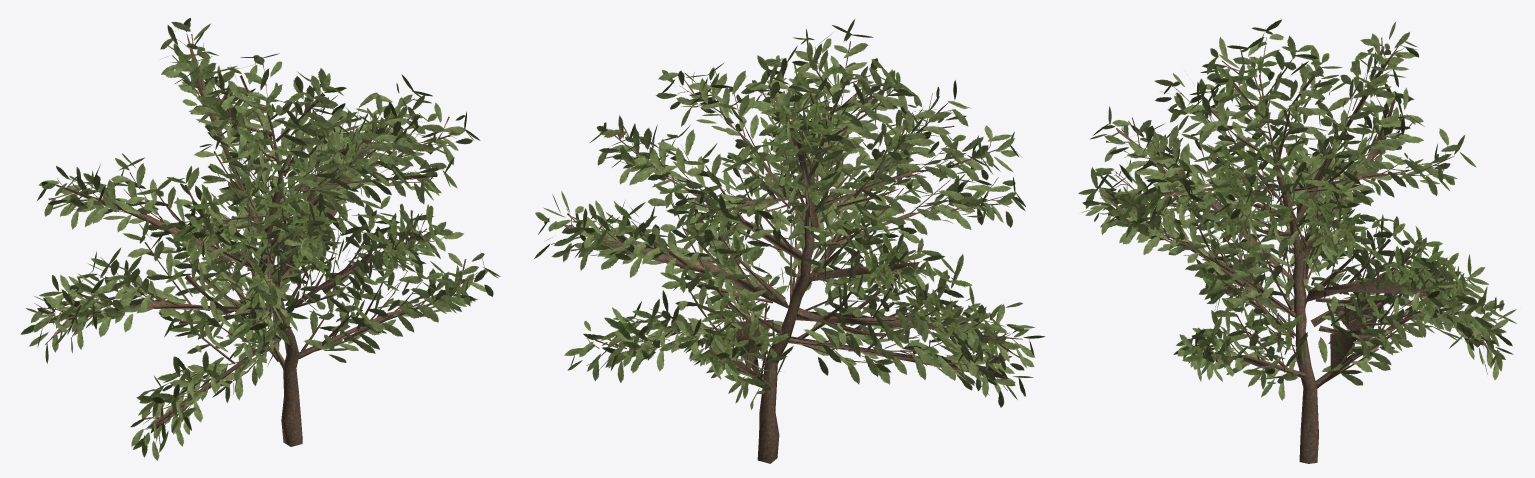
Rendered from chestnut.glb.
The picture shows the model from 3 angles, left to right: view 1: azimuth 30°, elevation 25°; view 2: azimuth 150°, elevation 25°; view 3: azimuth 270°, elevation 25°; orthographic projection. The views are drawn at different scales.
Visible parts, largest first — view 1: EU43Leaf1, EU43Leaf2, EU43Bark4, EU43Twig1; view 2: EU43Leaf1, EU43Leaf2, EU43Bark4, EU43Twig1; view 3: EU43Leaf1, EU43Leaf2, EU43Bark4, EU43Twig1.
Part boxes in pixels (x1,y1,x2,y2): EU43Leaf1: (26, 22, 493, 460); EU43Leaf2: (20, 18, 500, 457); EU43Bark4: (41, 33, 477, 446); EU43Twig1: (34, 34, 482, 446); EU43Leaf1: (534, 19, 1034, 409); EU43Leaf2: (535, 25, 1044, 398); EU43Bark4: (564, 41, 1022, 463); EU43Twig1: (551, 70, 1021, 390); EU43Leaf1: (1081, 22, 1516, 400); EU43Leaf2: (1078, 19, 1516, 389); EU43Bark4: (1101, 37, 1479, 463); EU43Twig1: (1099, 37, 1502, 362).
Bounding box in the file's own units: 4.92 × 4.46 × 4.38.
4 materials, 4 textured.
